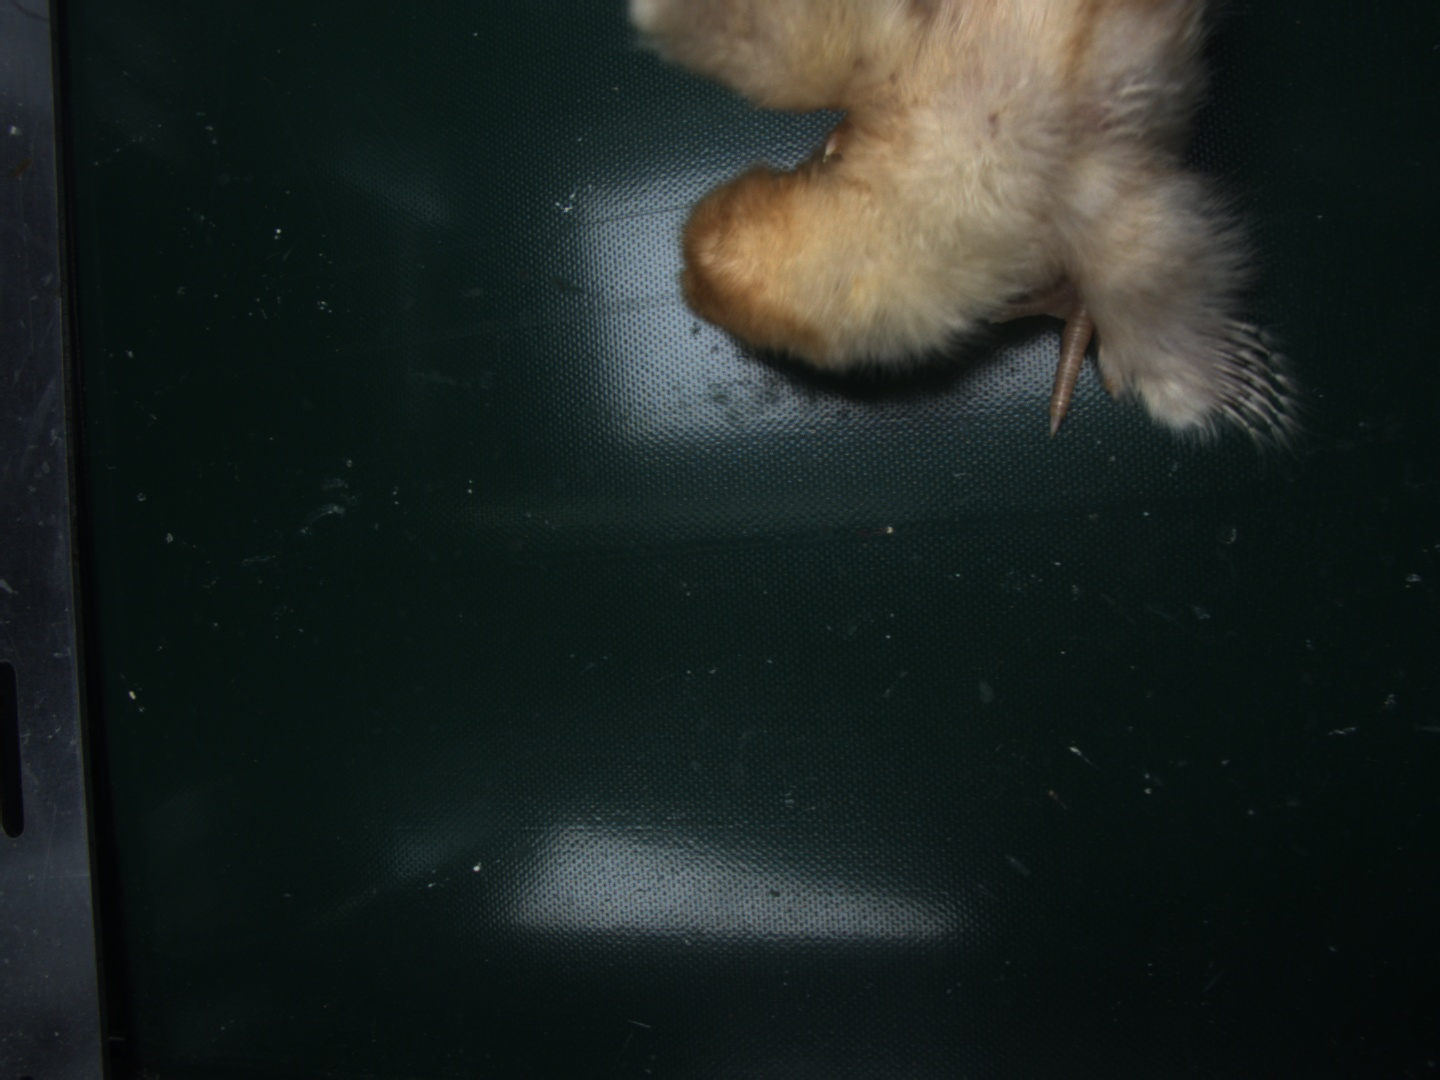female: (1204, 315, 1281, 434)
